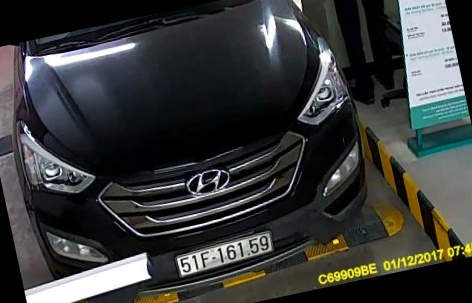plate: (169, 231, 283, 277)
